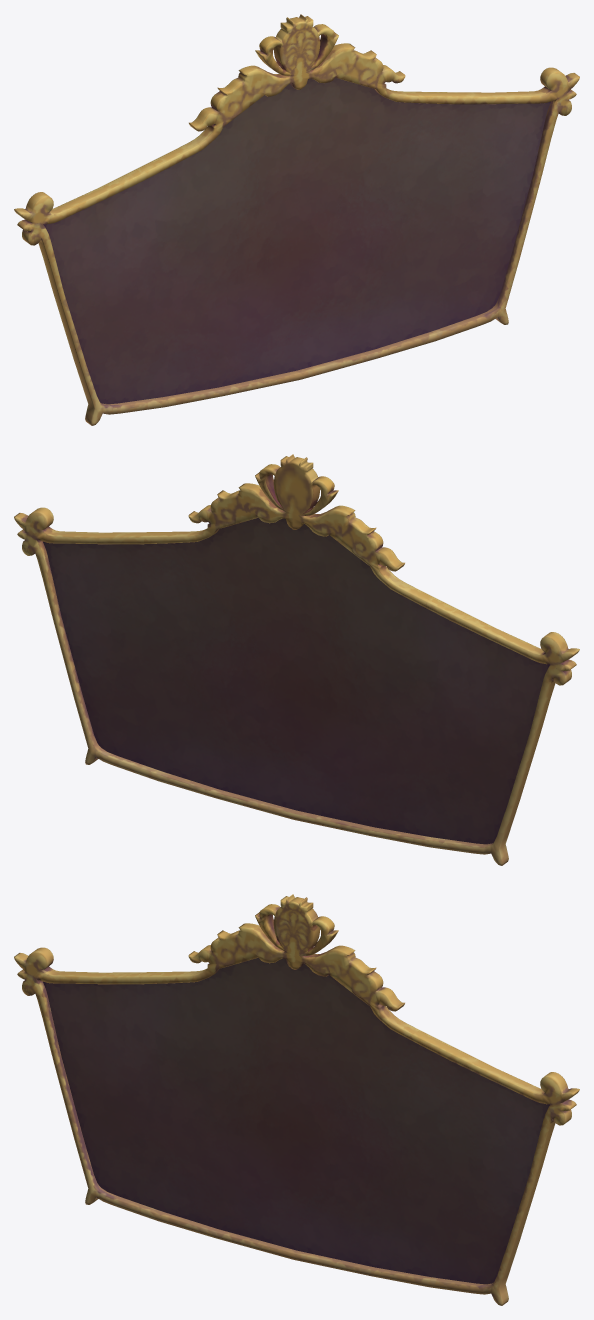
The model's file is Mirror_Update.fbx.
The picture shows the model from 3 angles, top to bottom: view 1: azimuth 30°, elevation 25°; view 2: azimuth 150°, elevation 25°; view 3: azimuth 330°, elevation 25°; orthographic projection.
Parts seen in each view (by area): view 1: Mirror_Mirror, Mirror_Frame; view 2: Mirror_Mirror, Mirror_Frame; view 3: Mirror_Mirror, Mirror_Frame.
Boxes of the visible parts, left/top/right/bottom form: Mirror_Mirror: left=43, top=77, right=550, bottom=404; Mirror_Frame: left=14, top=14, right=579, bottom=425; Mirror_Mirror: left=43, top=517, right=550, bottom=844; Mirror_Frame: left=14, top=454, right=579, bottom=865; Mirror_Mirror: left=43, top=957, right=550, bottom=1284; Mirror_Frame: left=14, top=894, right=579, bottom=1305.
Bounding box in the file's own units: 864 × 531 × 18.91.
